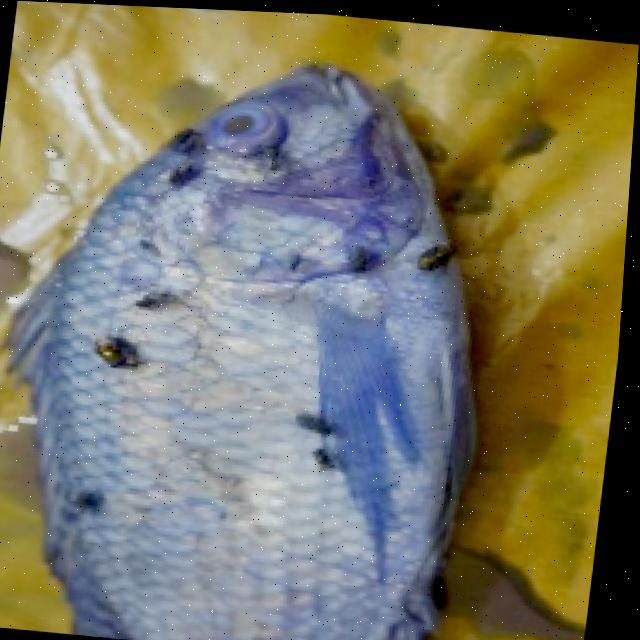Non-Fresh: (43, 130, 486, 640), (184, 80, 307, 188)
